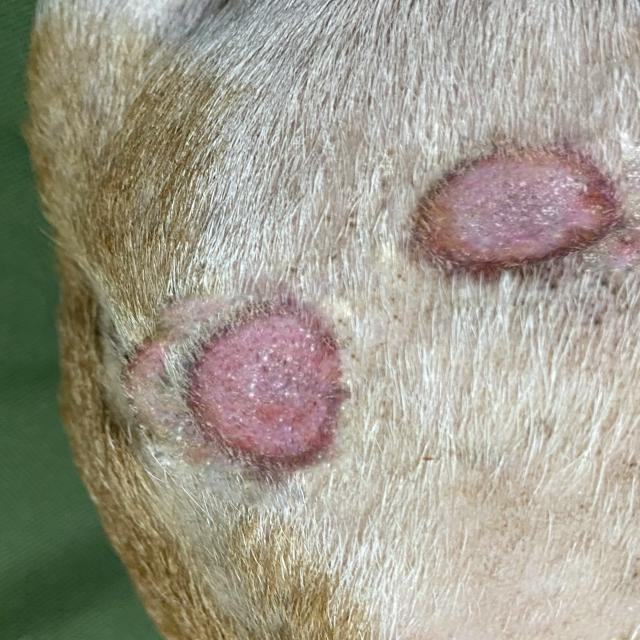ringworm: (167, 305, 377, 483), (379, 139, 640, 280)
